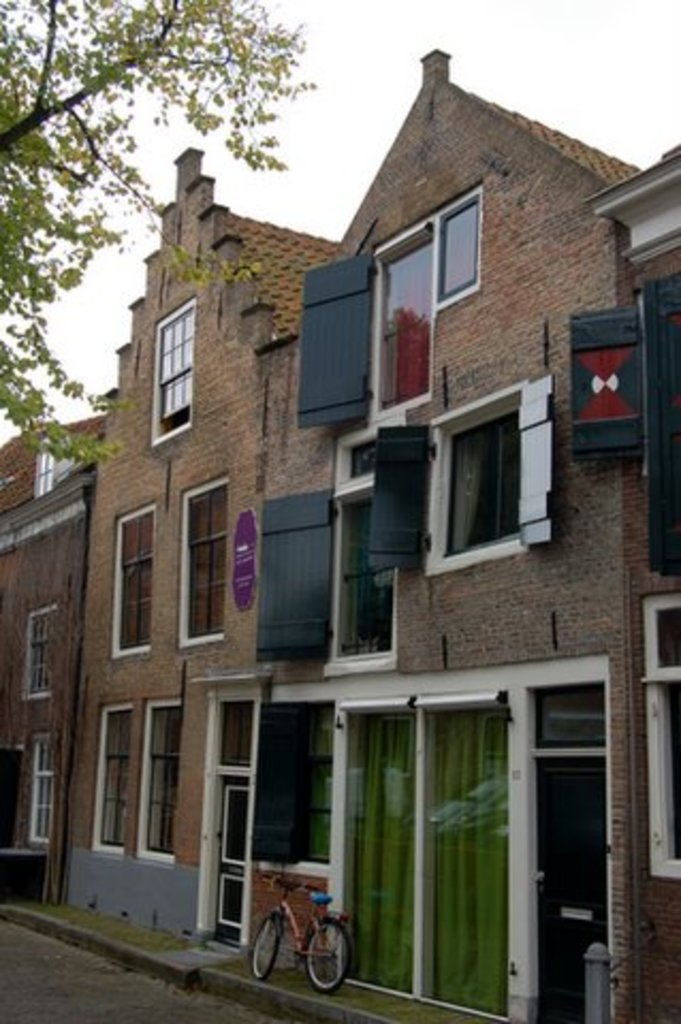Tree: (0, 0, 318, 458)
